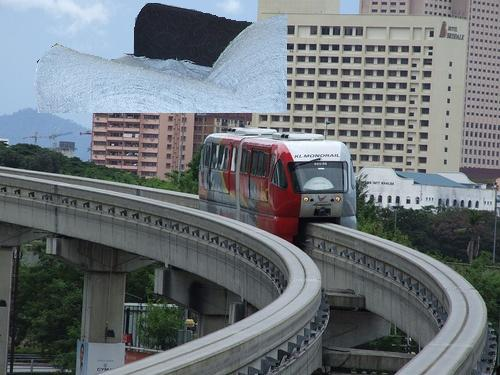tampered: (35, 4, 287, 113)
